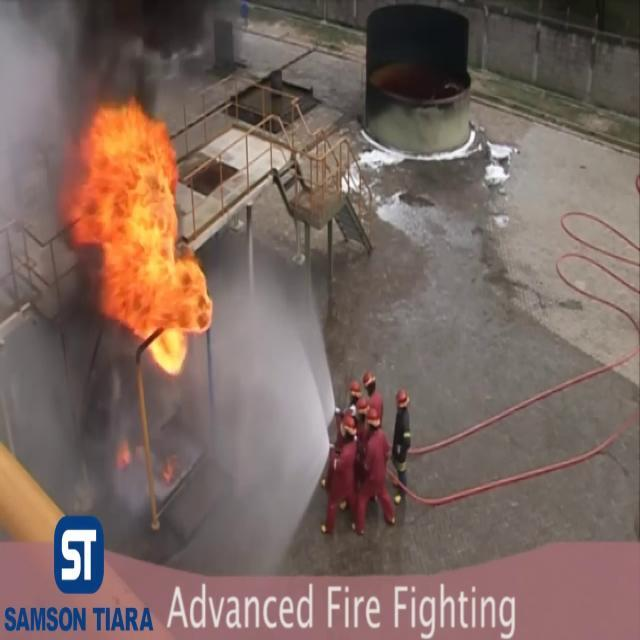Fire: (59, 96, 212, 378)
Smoke: (181, 248, 335, 564)
